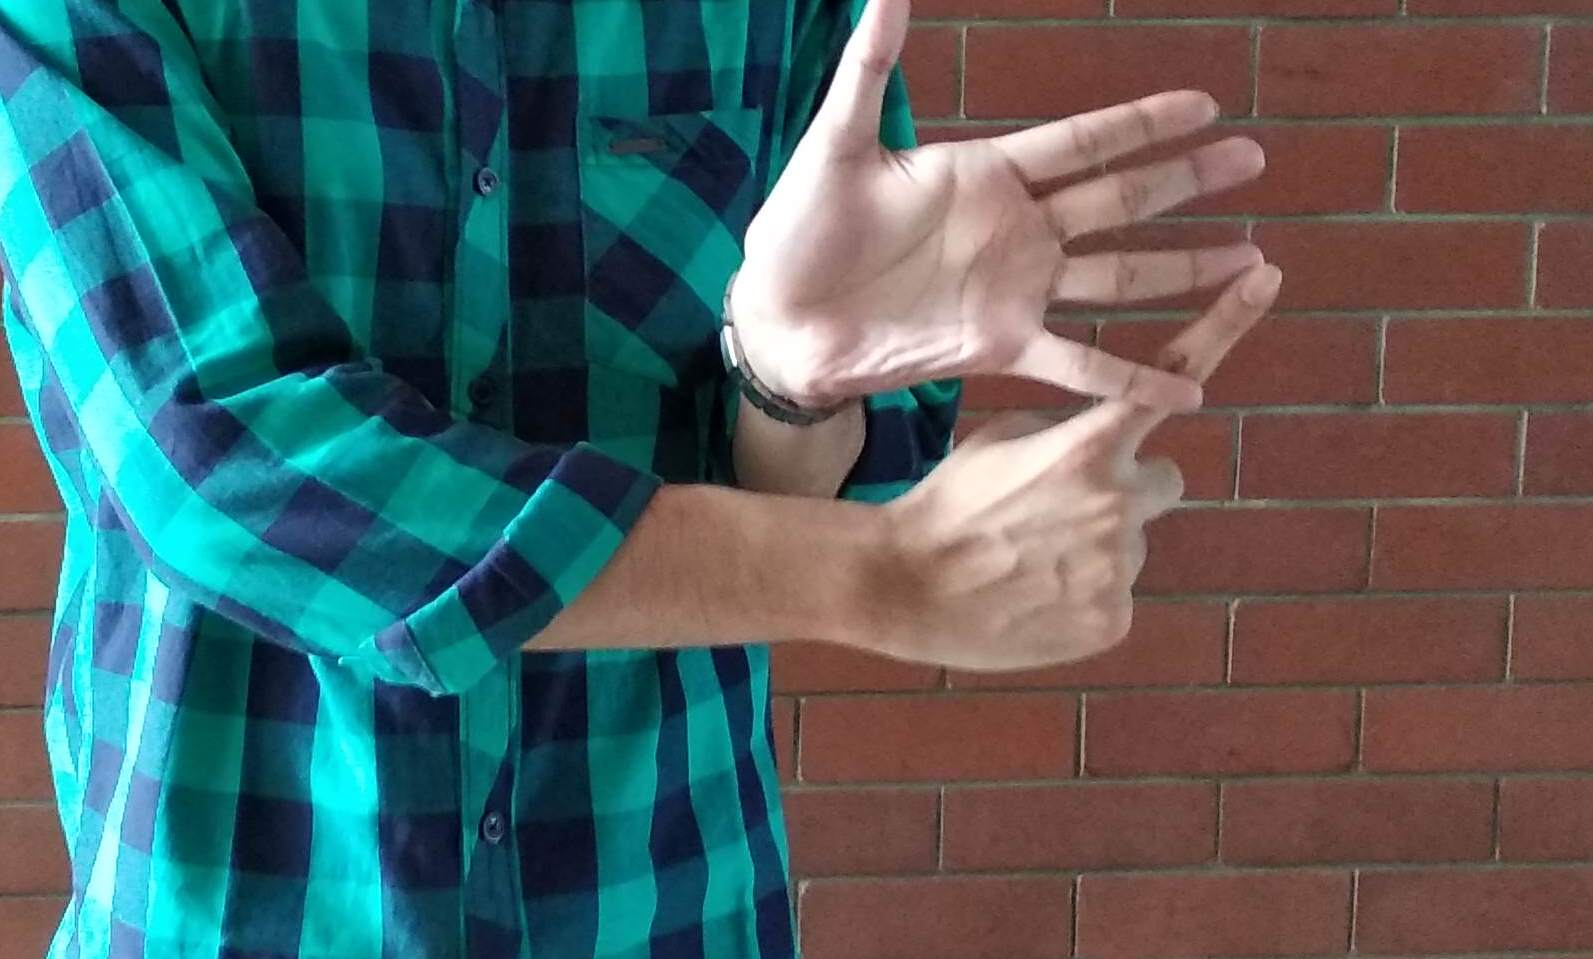e: (800, 33, 1291, 659)
